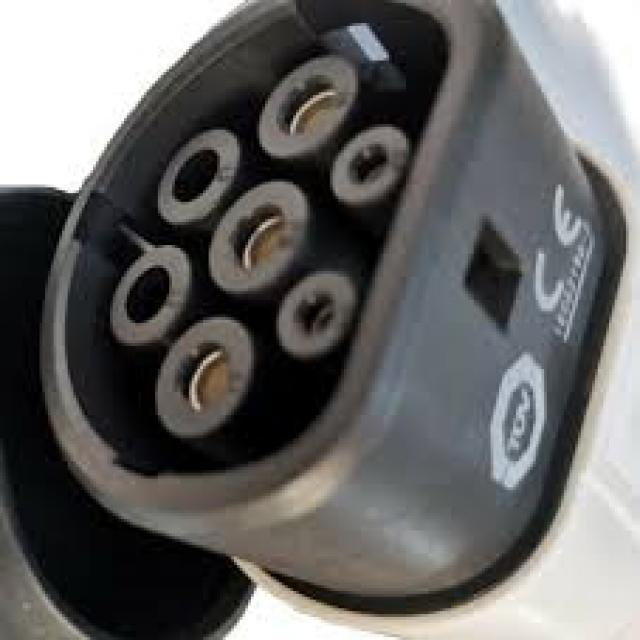Type 2: (86, 33, 470, 465)
